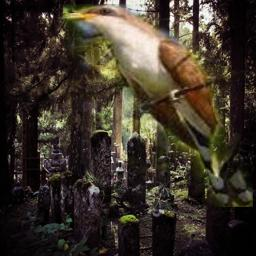Cuckoo: (63, 4, 253, 207)
